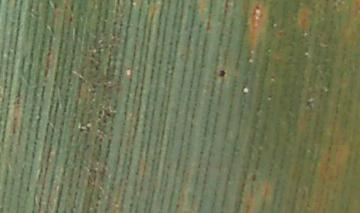tarspot: (251, 174, 256, 182), (220, 70, 225, 77)
